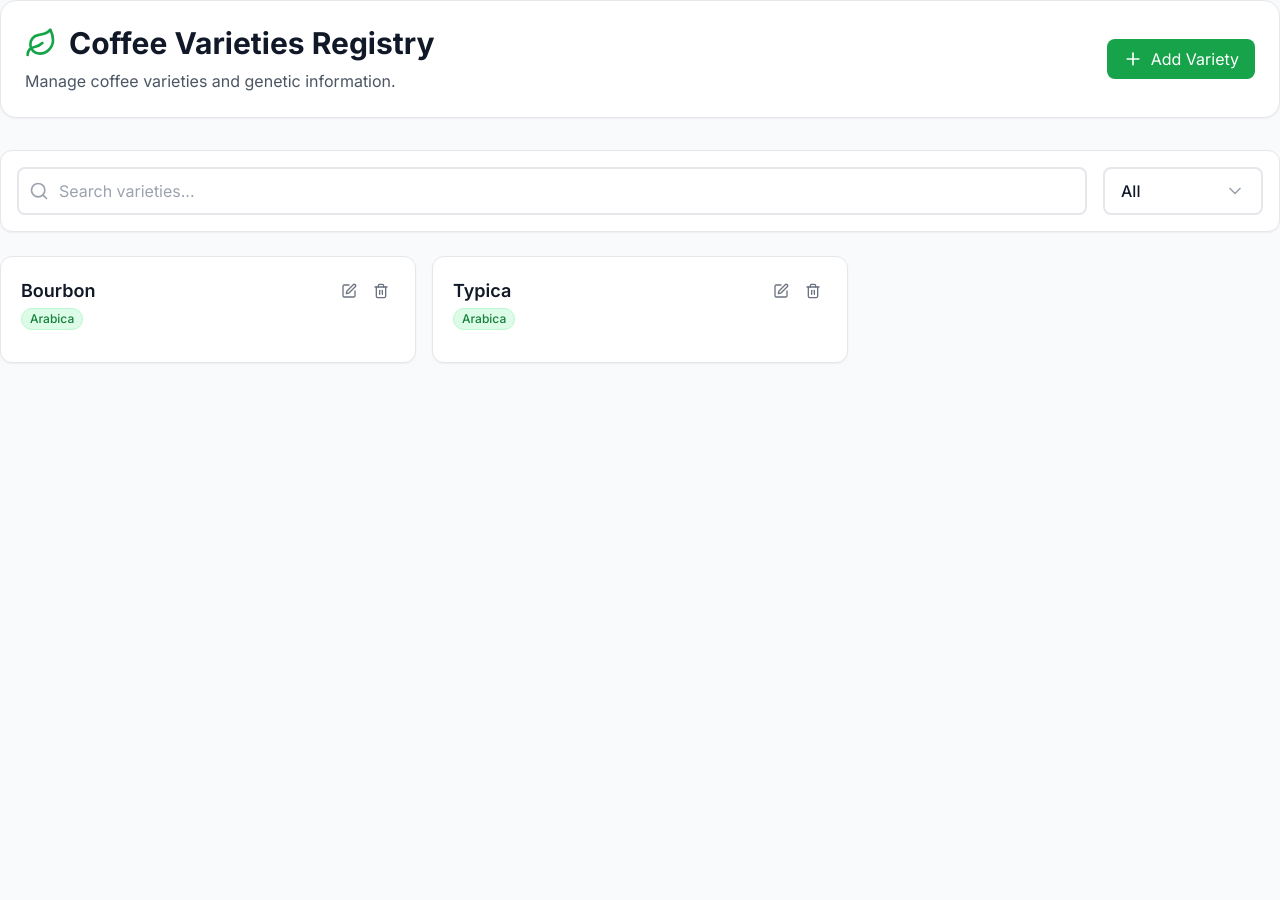
Test: Coffee Varieties duplicate names › checks the whole registry while a search hides the matching card
Expected: the heading "Bourbon" is shown, [21, 277, 96, 305]
Type "typ" into the field with placeholder "Search varieties...".
click(552, 191); type("typ")  # box [17, 167, 1087, 215]
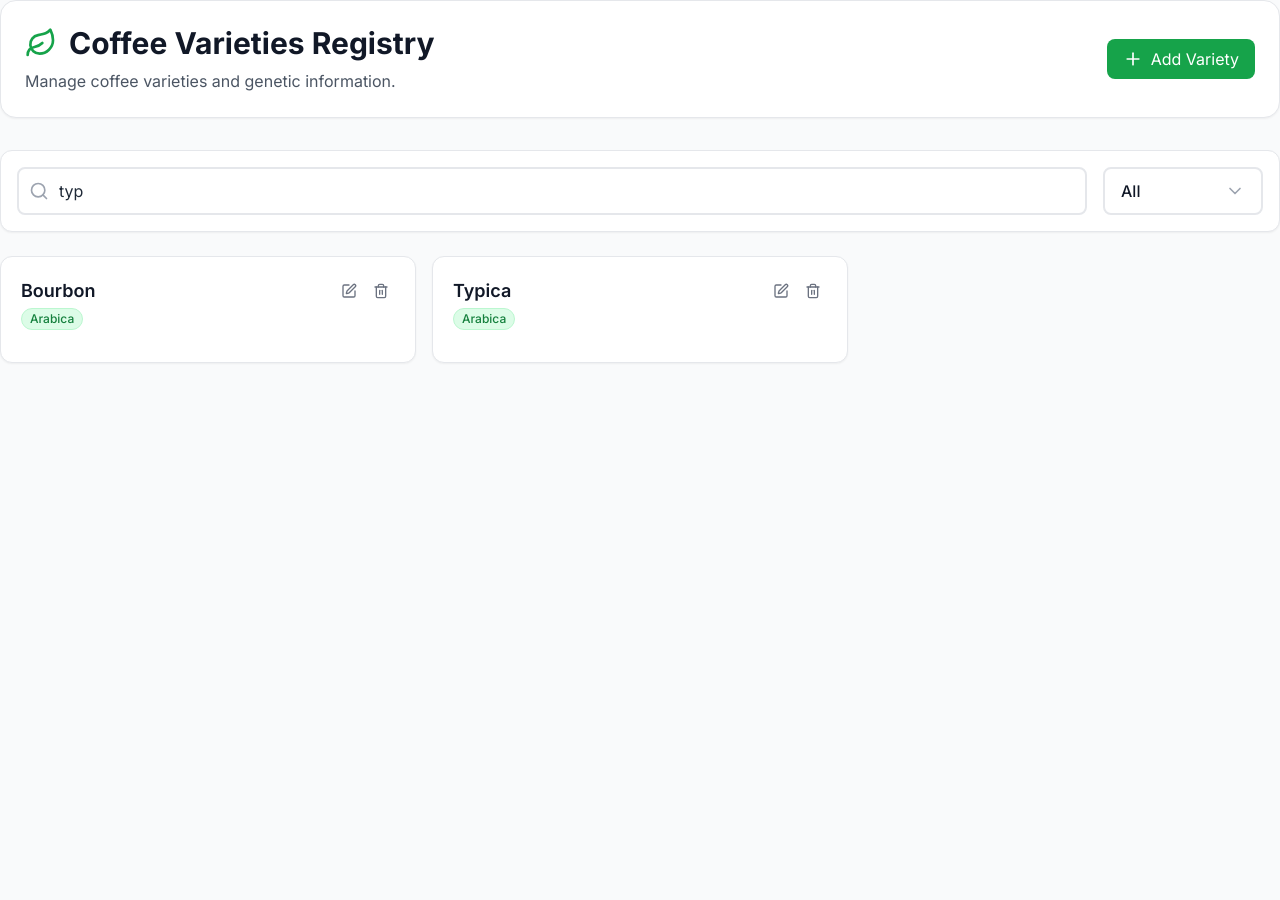
Press Enter in the field with placeholder "Search varieties...", box [17, 167, 1087, 215]
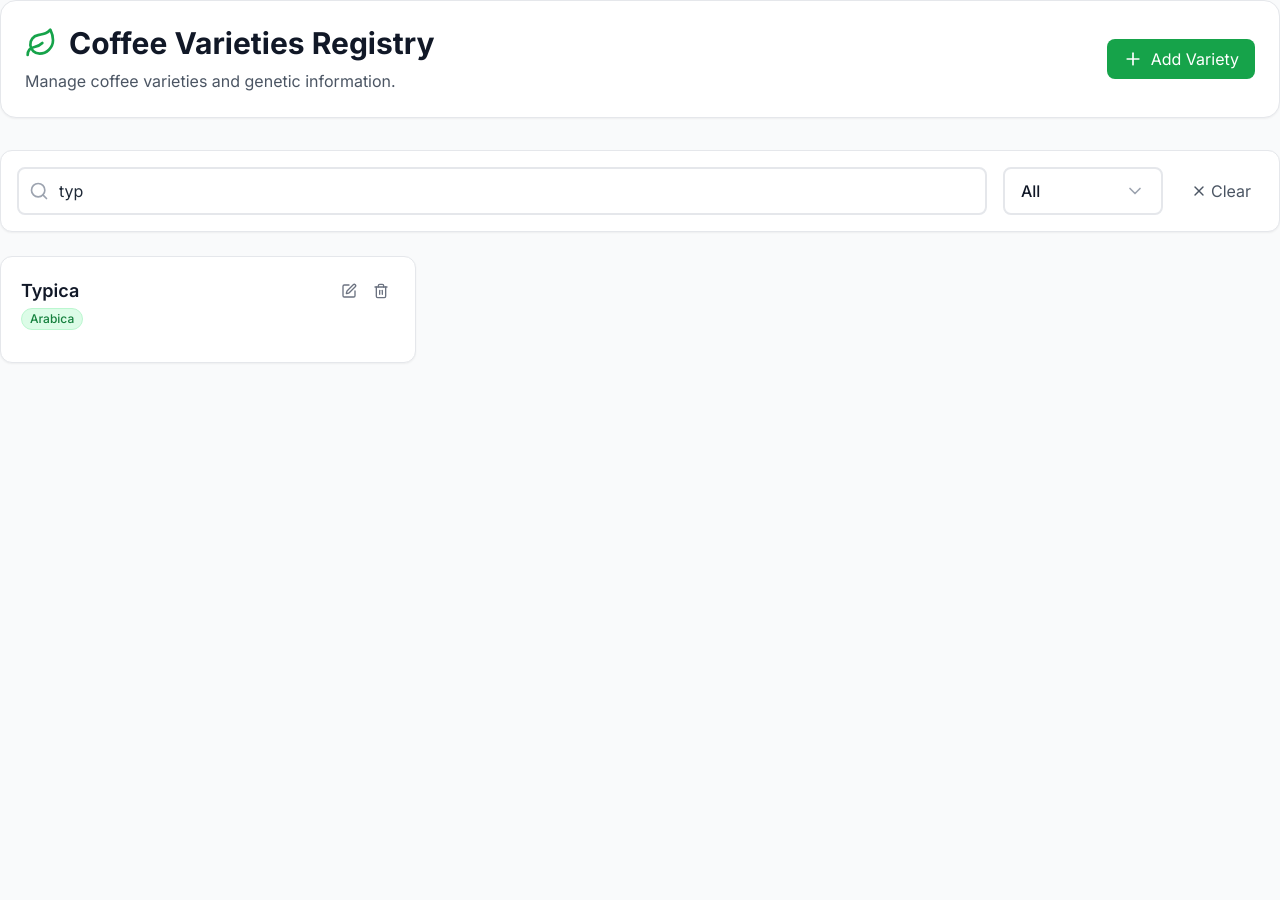
Now the heading "Bourbon" is gone
Click the button "Add Variety".
click(1181, 59)  # box [1107, 39, 1255, 79]
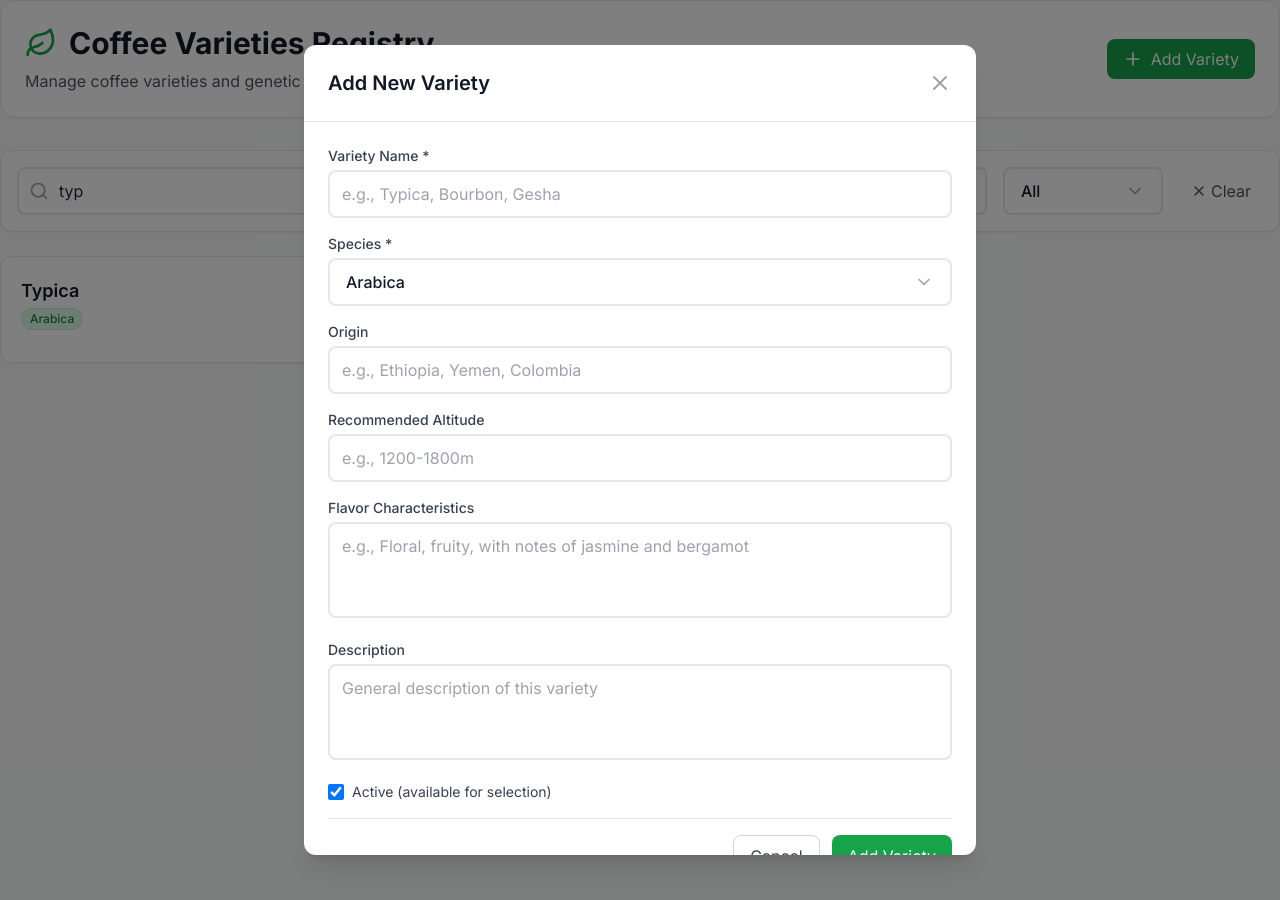
Type "bourbon" into the field with placeholder "e.g., Typica, Bourbon, Gesha".
click(640, 194); type("bourbon")  # box [328, 170, 952, 218]
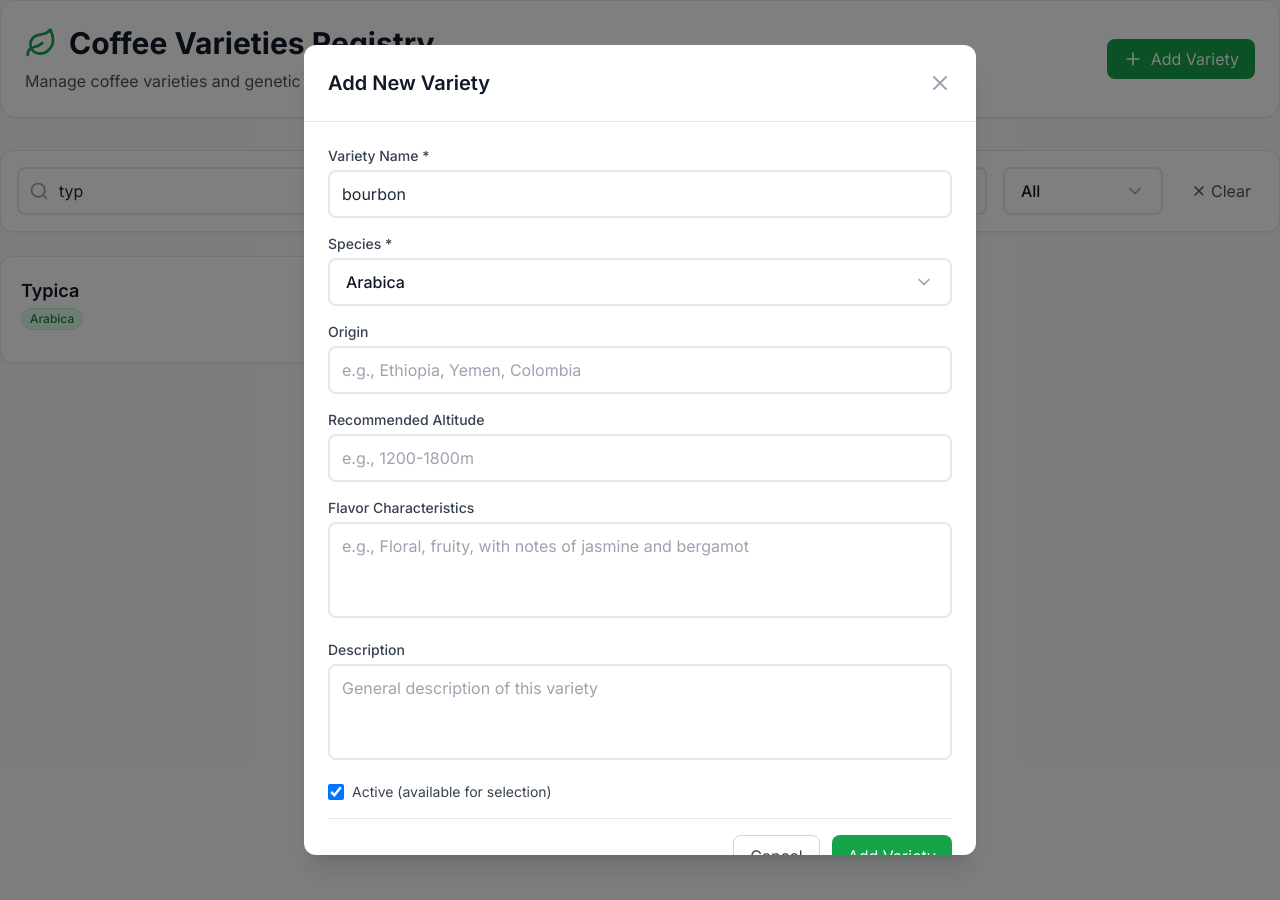
Submit the form with placeholder "e.g., Typica, Bourbon, Gesha", box [304, 122, 976, 899]
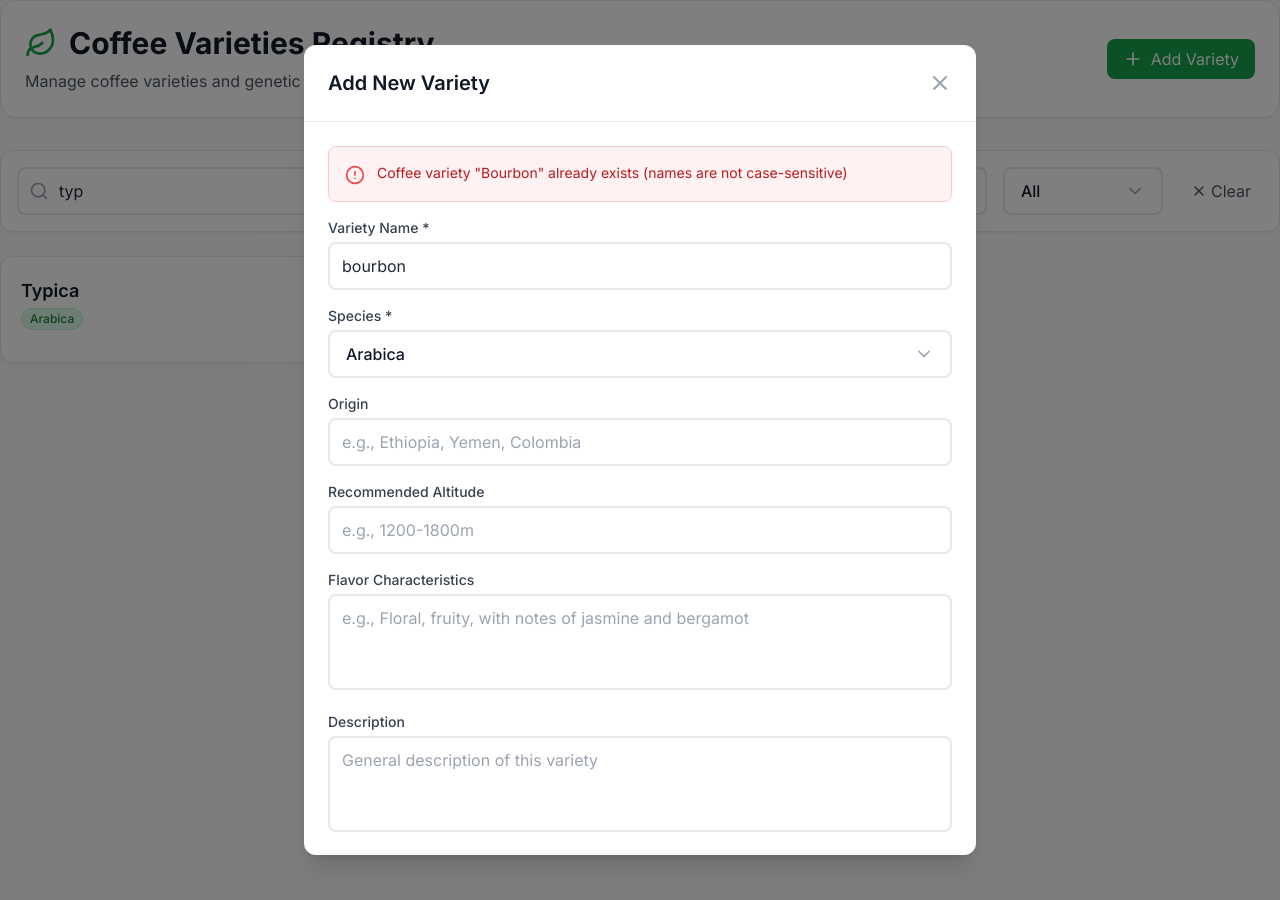
Now the text "Coffee variety \"Bourbon\" already exists" is shown, box [377, 164, 848, 181]
